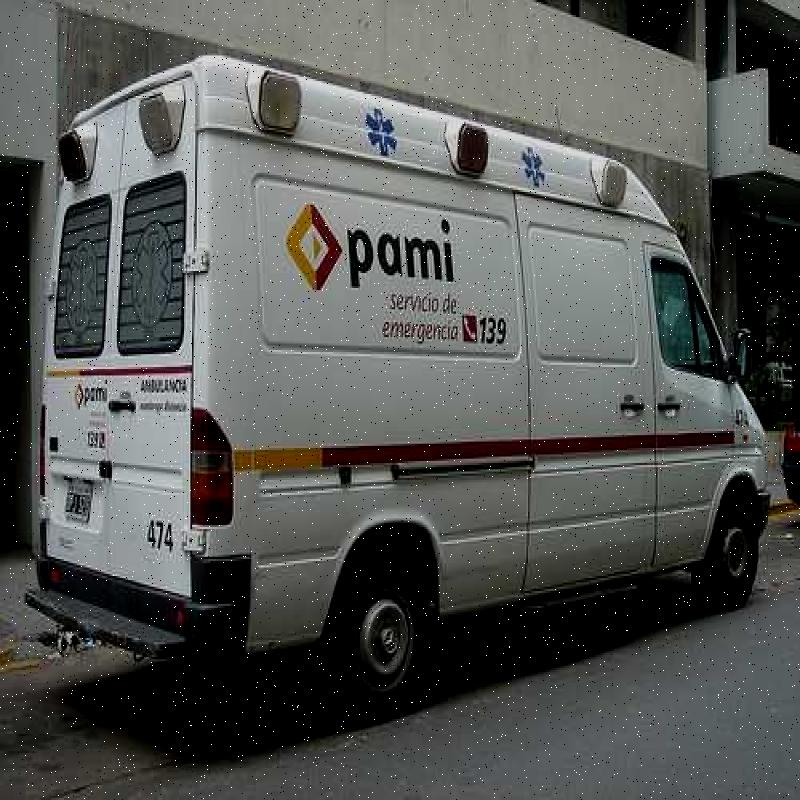ambulance: (41, 77, 766, 679)
